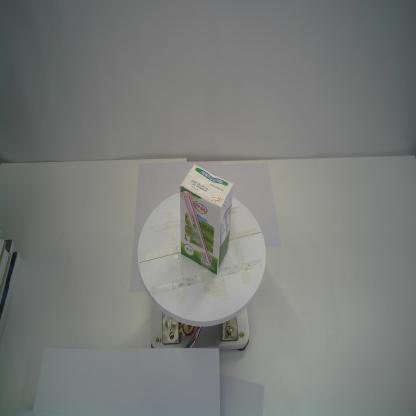Milk: (179, 163, 234, 276)
